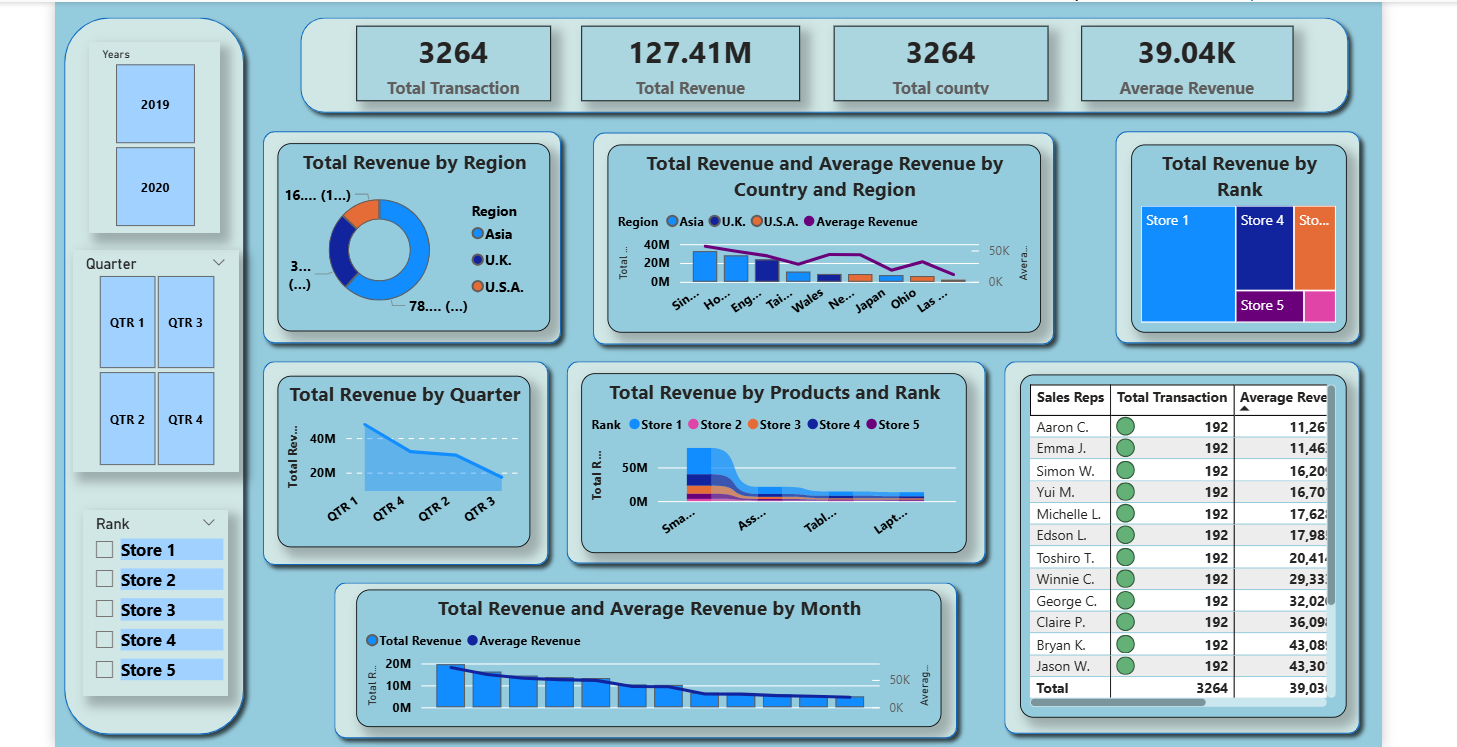

Layout of this report page (visuals, bound fields, positions):
{"tool":"powerbi","page":{"name":"Page 1","canvas":[1280,720],"ordinal":0},"visuals":[{"type":"shape","box":[0,5.4,191.4,710.1],"z":0},{"type":"shape","box":[191.4,338.1,293.3,214.5],"z":1000},{"type":"shape","box":[227.8,5.5,1029.2,109.8],"z":2000},{"type":"card","fields":{"Values":["Measure.Total Transaction"]},"box":[290.9,23.3,188,72.7],"z":3000},{"type":"card","fields":{"Values":["Measure.Total Revenue"]},"box":[507.7,23.3,211.3,72.7],"z":4000},{"type":"card","fields":{"Values":["Measure.Total county"]},"box":[752,23.3,207.2,72.7],"z":5000},{"type":"card","fields":{"Values":["Measure.Average Revenue"]},"box":[990.7,23.3,204.5,72.7],"z":6000},{"type":"shape","box":[191.4,115.4,305.5,222.7],"z":7000},{"type":"donutChart","fields":{"Y":["Measure.Total Revenue"],"Category":["Sheet1.Region"]},"box":[214.5,135.8,263.4,181.9],"z":8000},{"type":"shape","box":[510.5,116.8,463,222.7],"z":9000},{"type":"lineStackedColumnComboChart","fields":{"Category":["Sheet1.Country"],"Y":["Measure.Total Revenue"],"Y2":["Measure.Average Revenue"],"Series":["Sheet1.Region"]},"box":[533.6,137.1,418.2,181.9],"z":10000},{"type":"shape","box":[1014.2,115.4,253.9,222.7],"z":11000},{"type":"areaChart","fields":{"Y":["Measure.Total Revenue"],"Category":["Sheet1.Quarter"]},"box":[214.5,361.1,244.4,165.6],"z":12000},{"type":"treemap","fields":{"Values":["Measure.Total Revenue"],"Group":["Sheet1.Rank"]},"box":[1038.6,137.1,207.7,181.9],"z":13000},{"type":"shape","box":[484.7,338.1,422.2,213.2],"z":14000},{"type":"ribbonChart","fields":{"Category":["Sheet1.Products"],"Y":["Measure.Total Revenue"],"Series":["Sheet1.Rank"]},"box":[507.8,358.4,372,173.8],"z":15000},{"type":"shape","box":[906.9,338.1,361.1,377.4],"z":16000},{"type":"pivotTable","fields":{"Rows":["Sheet1.Sales Reps"],"Values":["Measure.Total Transaction","Measure.Average Revenue","Measure.Total Revenue"]},"box":[931.4,359.8,315,331.3],"z":17000},{"type":"shape","box":[260.7,551.2,619.1,168.4],"z":18000},{"type":"lineStackedColumnComboChart","fields":{"Y":["Measure.Total Revenue"],"Y2":["Measure.Average Revenue"],"Category":["Sheet1.Month"]},"box":[290.5,567.5,564.8,133.1],"z":19000},{"type":"slicer","fields":{"Values":["Sheet1.Years"]},"box":[32.6,38.6,126.7,184.6],"z":20000},{"type":"slicer","fields":{"Values":["Sheet1.Quarter"]},"box":[16.9,238.9,160.5,214.7],"z":21000},{"type":"slicer","fields":{"Values":["Sheet1.Rank"]},"box":[26.5,489.8,141.2,179.8],"z":22000}]}

Visuals, with their boxes in screenshot pixels (x1, y1, x2, y2):
shape: locate(46, 2, 241, 729)
shape: locate(241, 342, 542, 562)
shape: locate(279, 2, 1332, 114)
card - Measure.Total Transaction: locate(343, 20, 536, 94)
card - Measure.Total Revenue: locate(565, 20, 782, 94)
card - Measure.Total county: locate(815, 20, 1028, 94)
card - Measure.Average Revenue: locate(1060, 20, 1269, 94)
shape: locate(241, 114, 554, 342)
donutChart - Measure.Total Revenue x Sheet1.Region: locate(265, 135, 535, 321)
shape: locate(568, 116, 1042, 344)
lineStackedColumnComboChart - Sheet1.Country x Measure.Total Revenue: locate(592, 137, 1020, 323)
shape: locate(1084, 114, 1344, 342)
areaChart - Measure.Total Revenue x Sheet1.Quarter: locate(265, 366, 515, 535)
treemap - Measure.Total Revenue x Sheet1.Rank: locate(1109, 137, 1321, 323)
shape: locate(542, 342, 974, 561)
ribbonChart - Sheet1.Products x Measure.Total Revenue: locate(565, 363, 946, 541)
shape: locate(974, 342, 1344, 729)
pivotTable - Sheet1.Sales Reps x Measure.Total Transaction: locate(999, 365, 1322, 704)
shape: locate(312, 561, 946, 733)
lineStackedColumnComboChart - Measure.Total Revenue x Measure.Average Revenue: locate(343, 577, 921, 713)
slicer - Sheet1.Years: locate(79, 36, 209, 225)
slicer - Sheet1.Quarter: locate(63, 241, 227, 461)
slicer - Sheet1.Rank: locate(73, 498, 217, 682)
